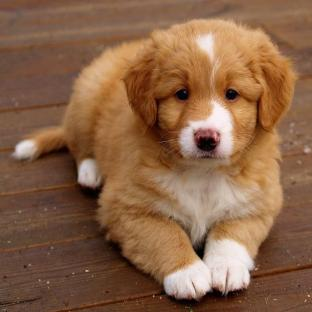Animal: (14, 19, 296, 300)
